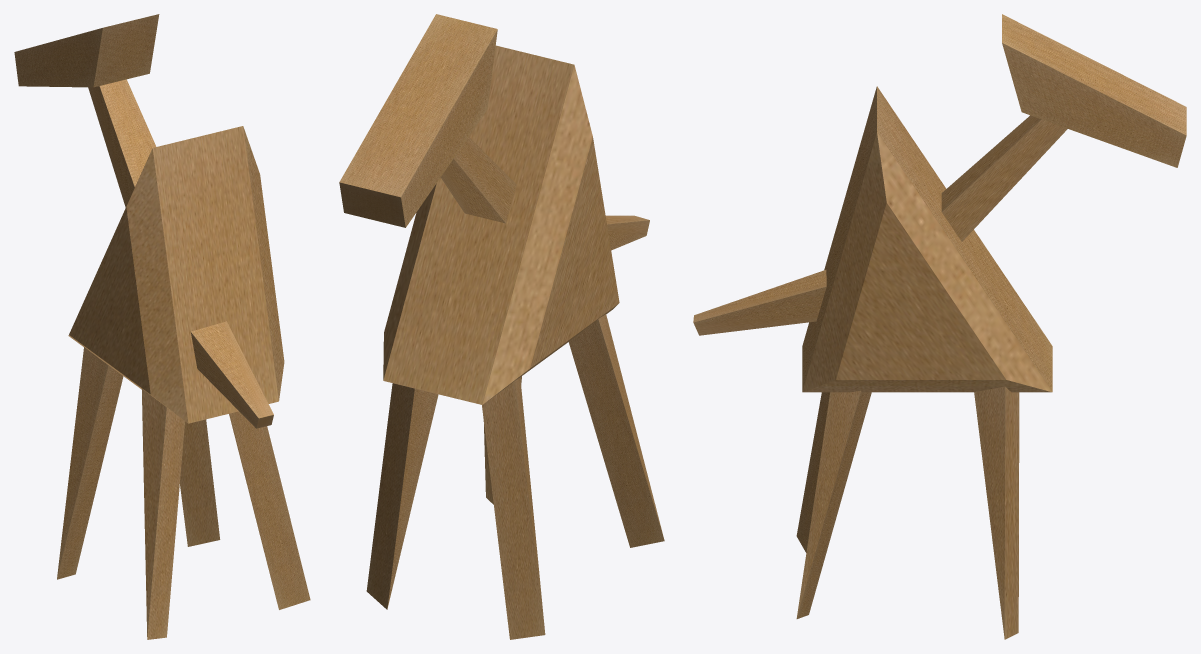
File: lama.FBX
The picture shows the model from 3 angles, left to right: view 1: azimuth 30°, elevation 25°; view 2: azimuth 150°, elevation 25°; view 3: azimuth 270°, elevation 25°; orthographic projection. The views are drawn at different scales.
Visible parts, largest first — view 1: Box001, Box003, Box005, Box004, Object001; view 2: Box001, Box003, Box005, Box004, Object001; view 3: Box001, Box003, Box005, Box004, Object001.
Part boxes in pixels (bbox=[...]): Box001: bbox=[68, 126, 284, 423]; Box003: bbox=[57, 347, 310, 639]; Box005: bbox=[14, 14, 159, 87]; Box004: bbox=[88, 79, 156, 207]; Object001: bbox=[191, 321, 273, 428]; Box001: bbox=[383, 45, 619, 404]; Box003: bbox=[366, 314, 664, 639]; Box005: bbox=[339, 14, 497, 227]; Box004: bbox=[440, 137, 516, 223]; Object001: bbox=[605, 215, 649, 250]; Box001: bbox=[802, 86, 1052, 392]; Box003: bbox=[796, 386, 1019, 639]; Box005: bbox=[1002, 14, 1186, 167]; Box004: bbox=[941, 115, 1067, 241]; Object001: bbox=[693, 270, 826, 335].
Bounding box in the file's own units: 17.17 × 52.05 × 40.71.
1 material, 1 textured.
